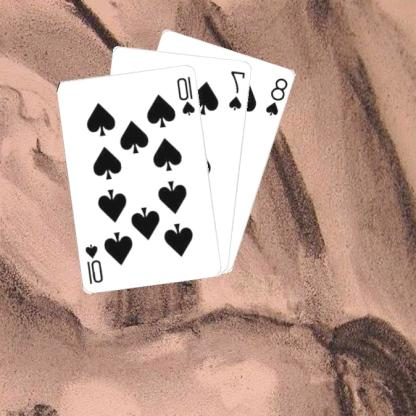10S: (176, 72, 199, 116), (84, 241, 107, 285)
7S: (228, 67, 249, 111)
8S: (265, 75, 291, 117)
